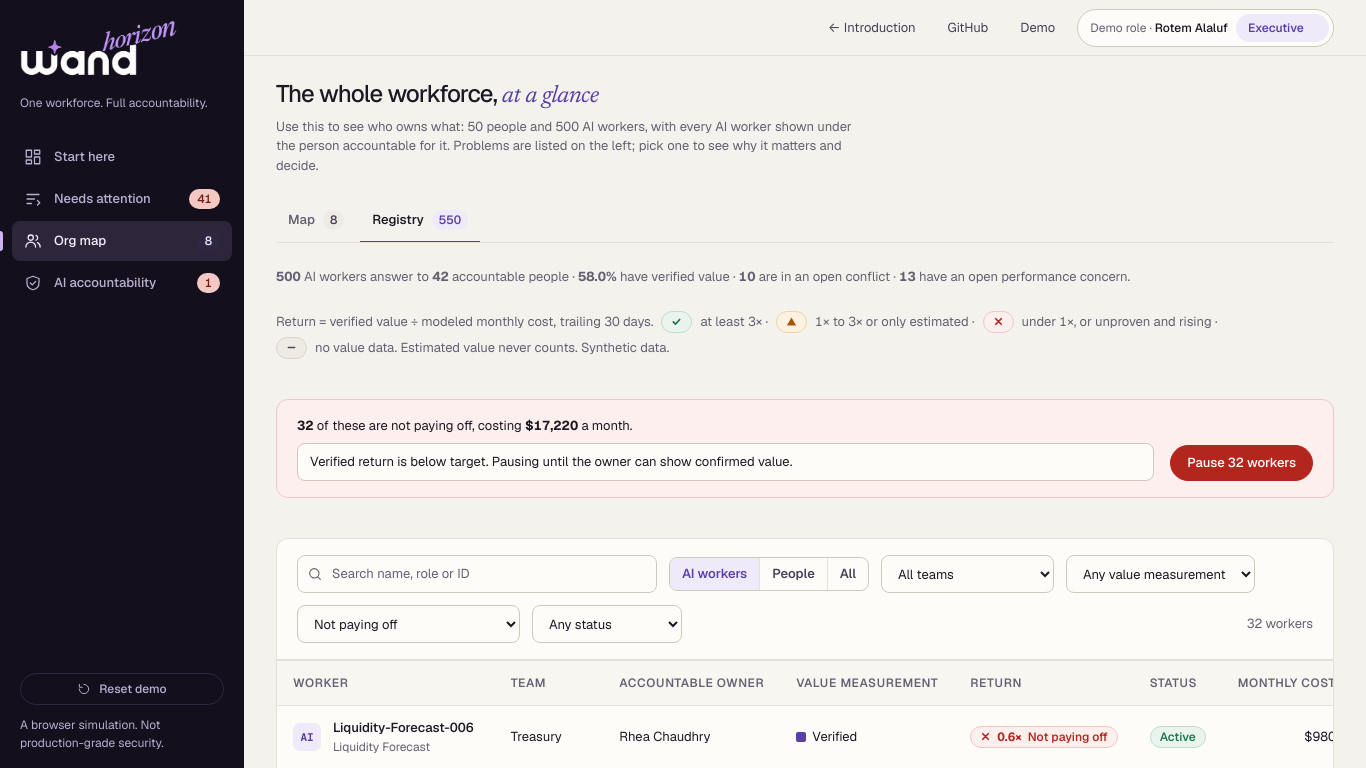
Scenario: return on cost in the System › a worker profile shows the return, a plain verdict, the suggested action and the unconfirmed potential apart
Click the row that starts with "Liquidity-Forecast-006". click: point(814, 737)
box: [277,706,1352,767]
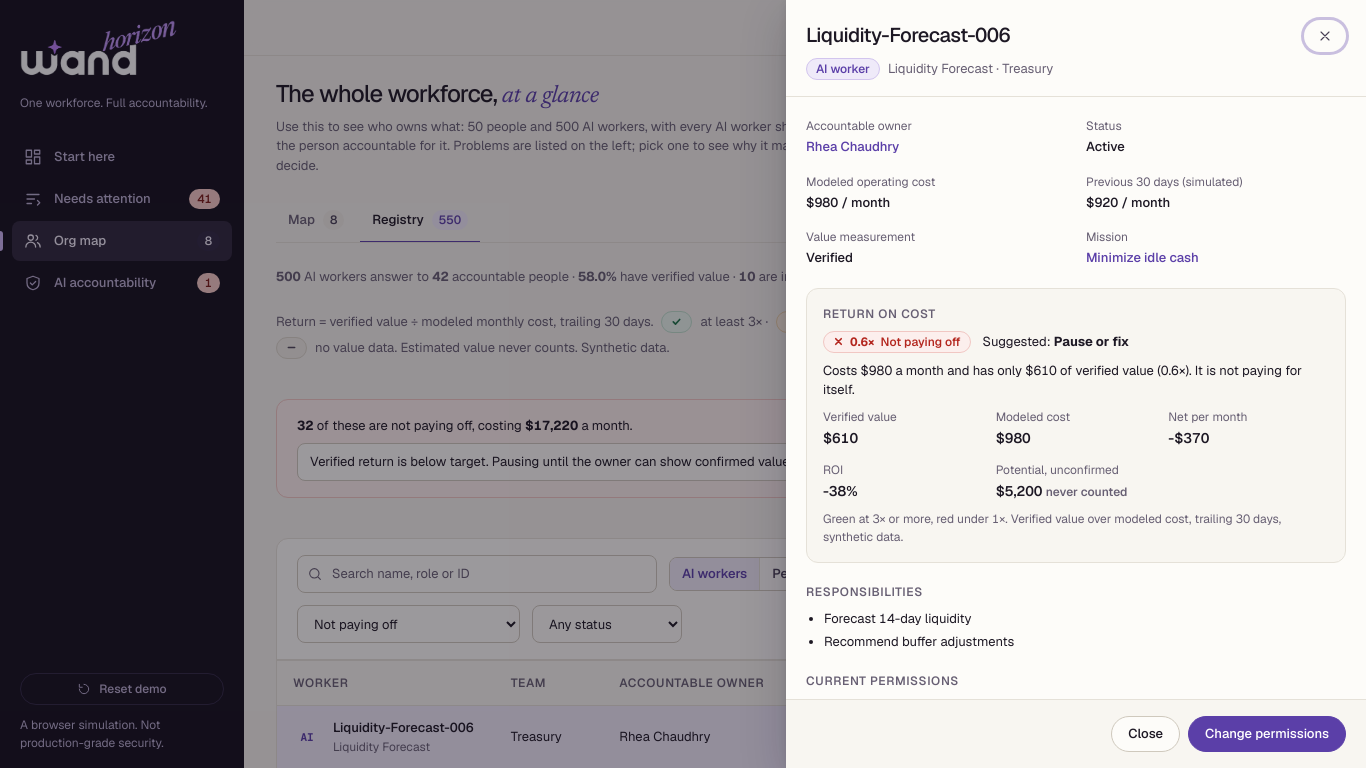
Check: the text "Not paying off" is shown, box [881,332,961,350]
Check: the text "Pause or fix" is shown, box [1054,333,1129,350]
Check: the text "Potential, unconfirmed" is shown, box [996,462,1119,478]
